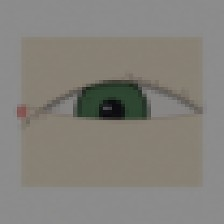hemorrhage_spot: (84, 84, 144, 131)
